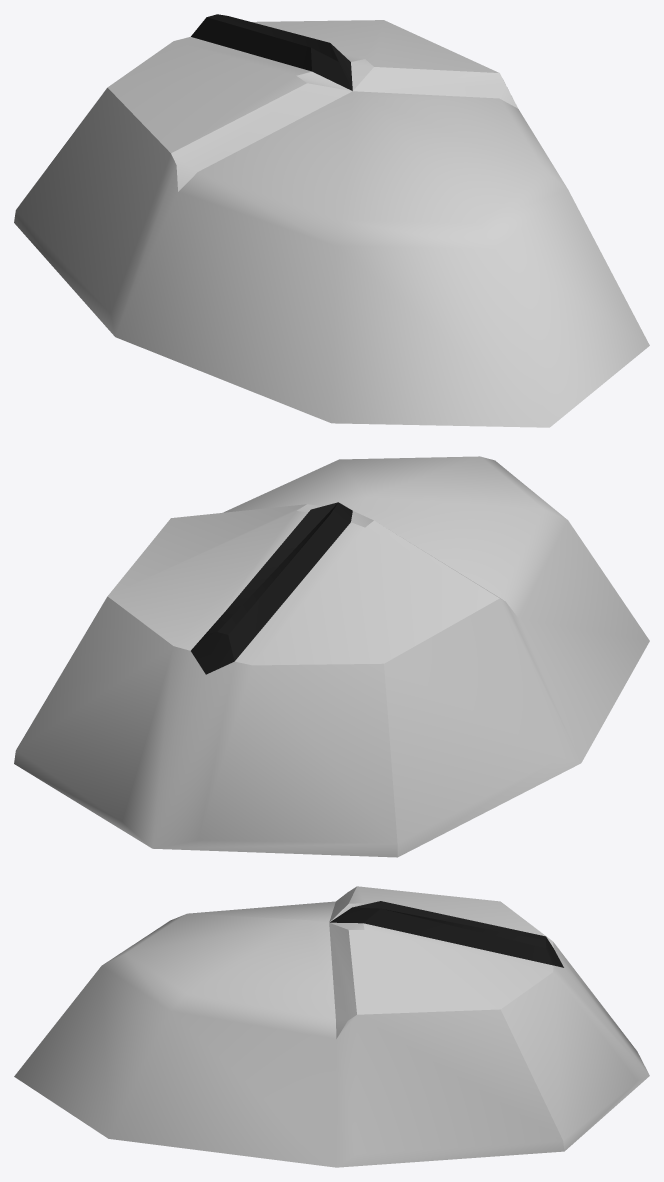
Rendered from Mouse.FBX.
The picture shows the model from 3 angles, top to bottom: view 1: azimuth 30°, elevation 25°; view 2: azimuth 150°, elevation 25°; view 3: azimuth 270°, elevation 25°; orthographic projection. The views are drawn at different scales.
Visible parts, largest first — view 1: Mouse; view 2: Mouse; view 3: Mouse.
Part boxes in pixels (x1,y1,x2,y2): Mouse: (14, 14, 649, 427); Mouse: (14, 456, 649, 857); Mouse: (14, 886, 649, 1167).
Bounding box in the file's own units: 21.78 × 9.59 × 32.16.
